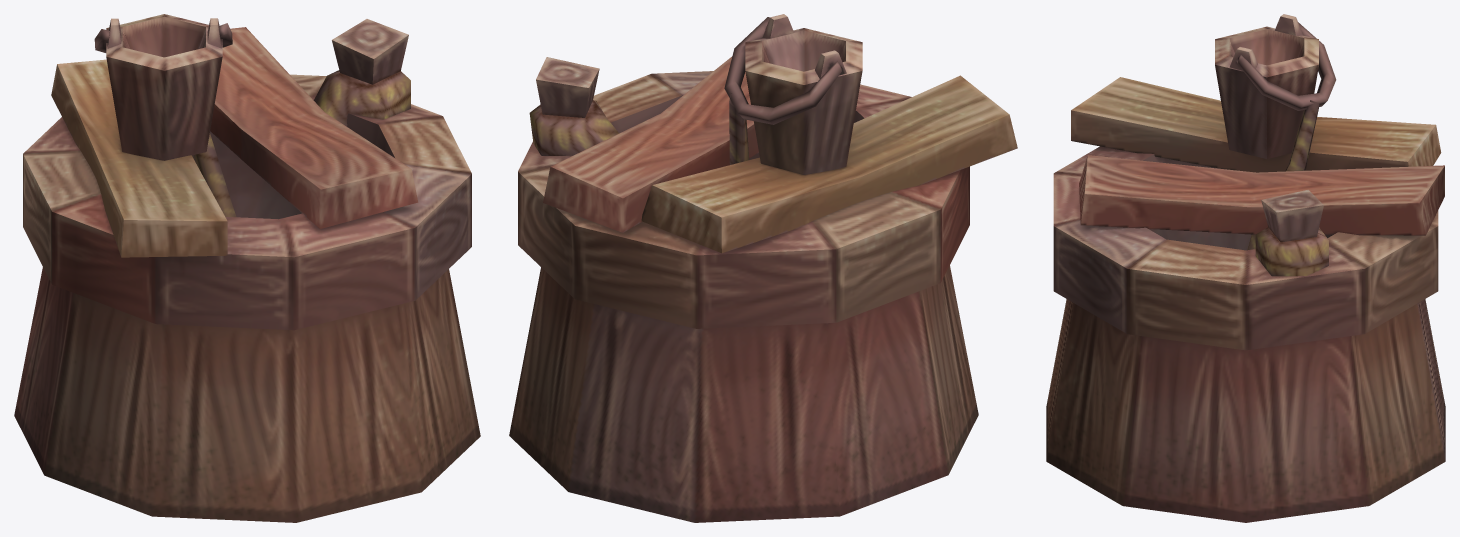
File: well_1.FBX
3 renders of one model, left to right at view 1: azimuth 30°, elevation 25°; view 2: azimuth 150°, elevation 25°; view 3: azimuth 270°, elevation 25°, orthographic. The views are drawn at different scales.
Visible parts, largest first — view 1: well_1; view 2: well_1; view 3: well_1.
Boxes of the visible parts, <box> form: well_1: <box>14,14,480,522</box>; well_1: <box>509,14,1017,522</box>; well_1: <box>1046,14,1445,522</box>.
Size of the model in its own units: 53.63 by 52.14 by 51.01.
1 material, 1 textured.
